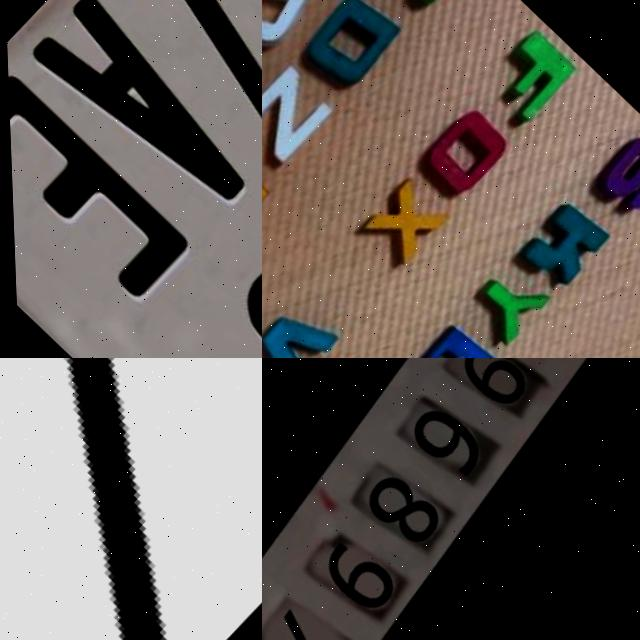6: (387, 380, 505, 496)
7: (0, 358, 262, 640), (262, 585, 364, 640)
8: (345, 451, 459, 564)
9: (300, 518, 414, 631), (440, 358, 547, 424)
A: (17, 0, 262, 229)
B: (397, 317, 494, 358)
C: (382, 0, 478, 6)
D: (296, 0, 406, 94)
E: (6, 71, 193, 309)
F: (483, 27, 576, 120)
K: (514, 196, 609, 290)
O: (408, 101, 511, 203)
Q: (262, 0, 322, 70)
S: (589, 123, 640, 217)
V: (262, 298, 334, 358)
X: (355, 177, 447, 268)
Y: (460, 257, 548, 345)
Z: (94, 0, 262, 148), (262, 60, 335, 166)
